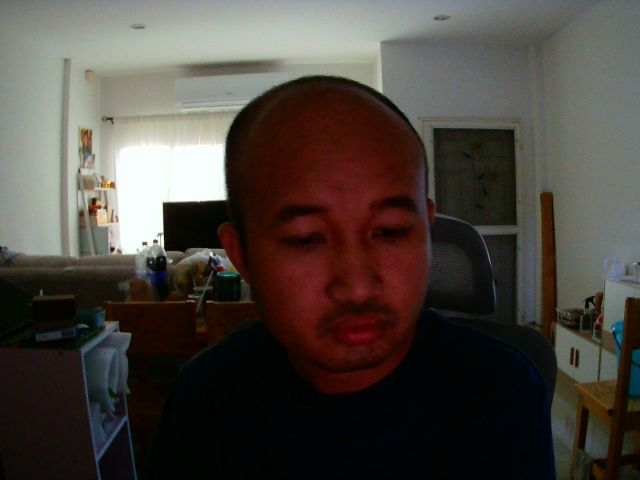face: (227, 67, 429, 373)
